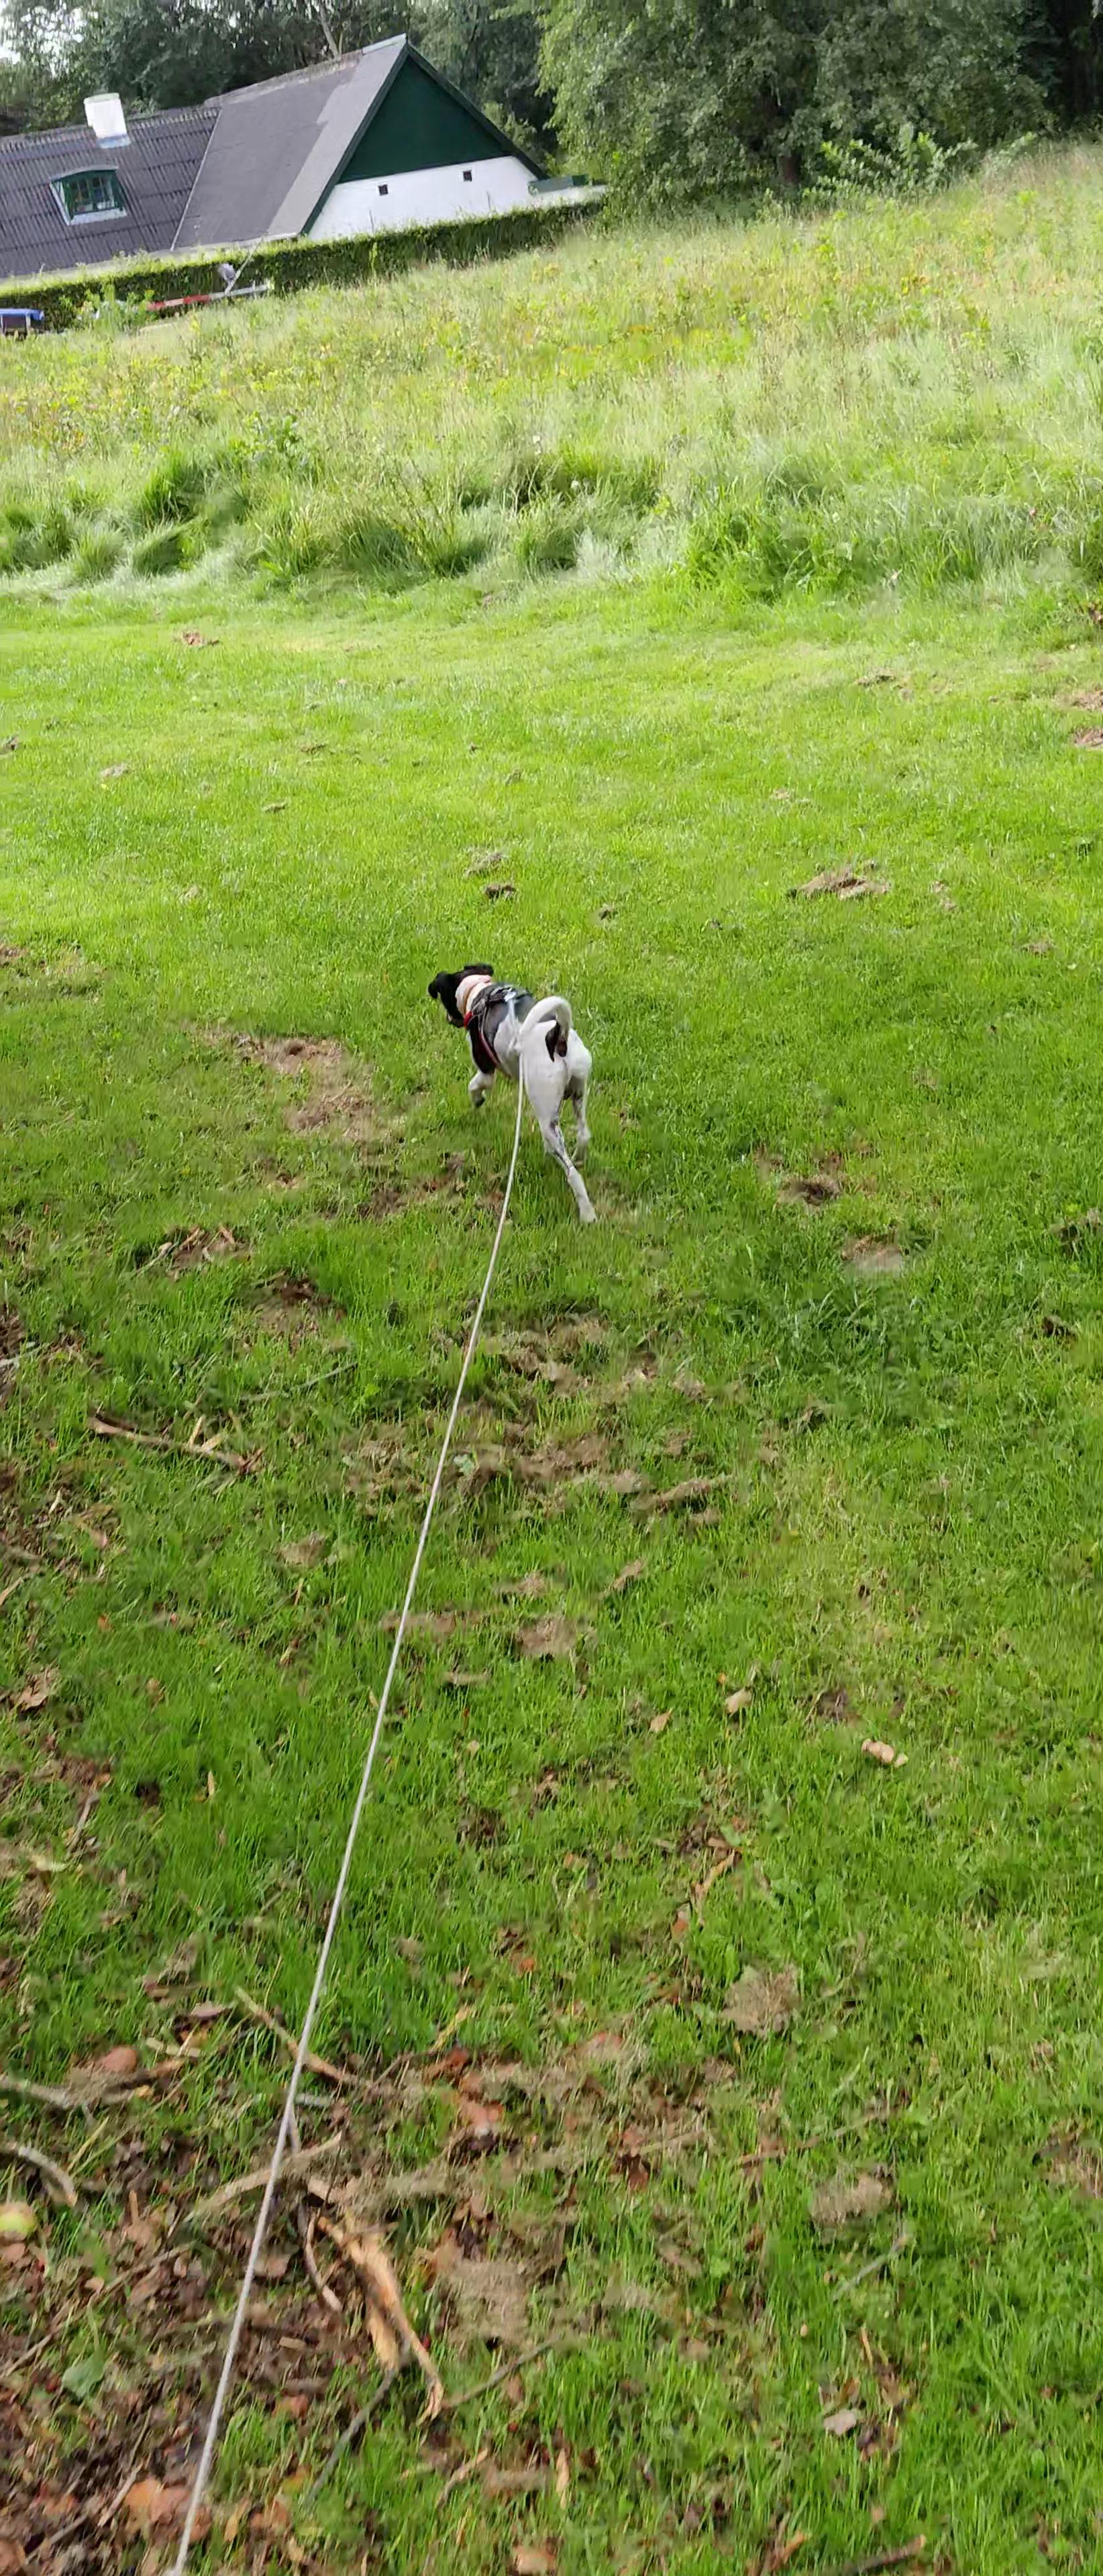Dog: (413, 954, 607, 1227)
